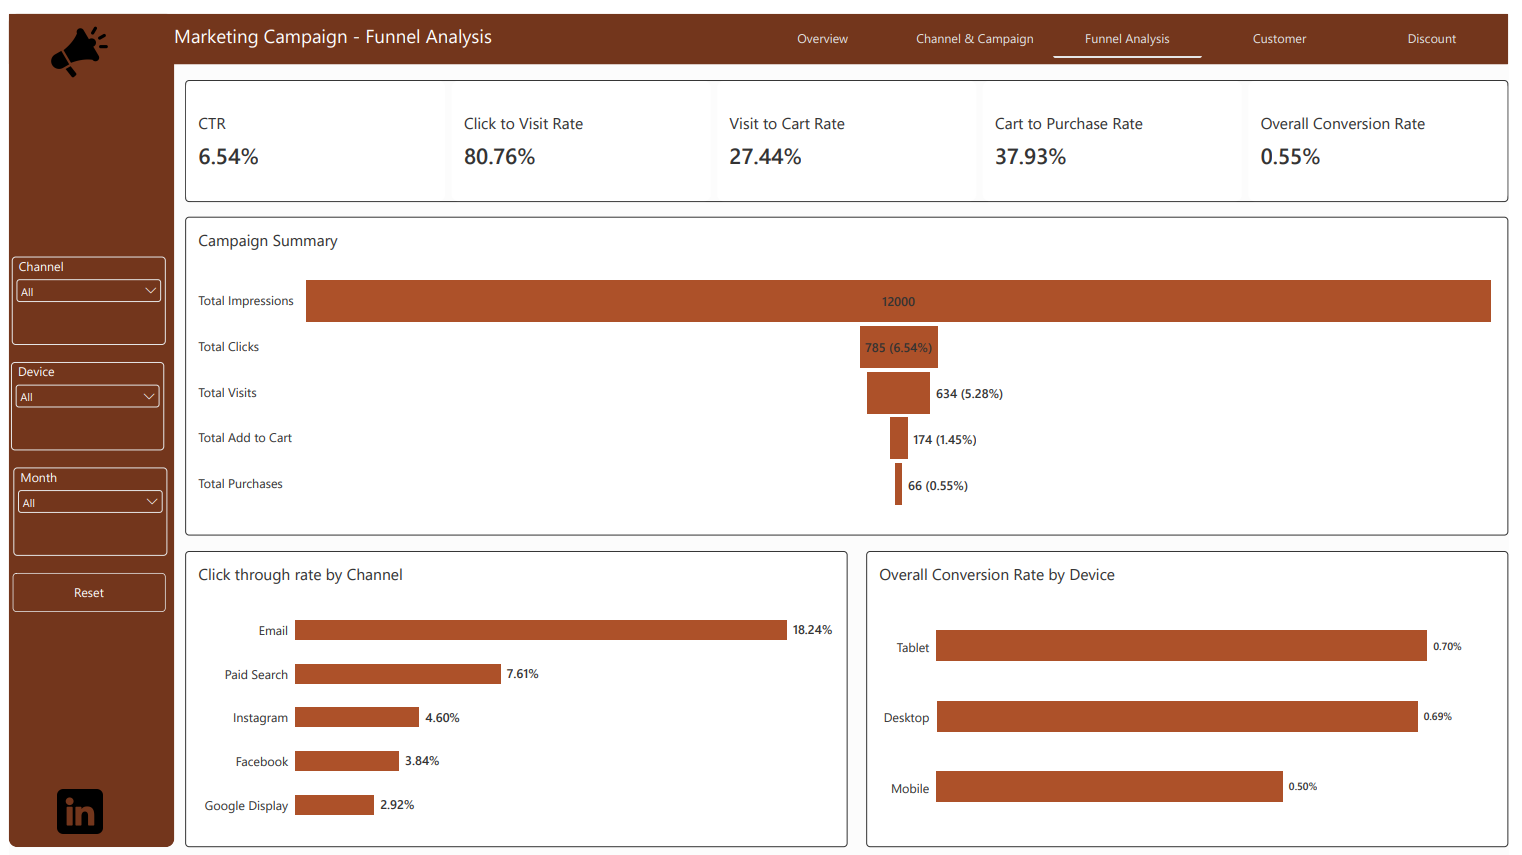

This screenshot's page, from the dashboard's own definition file:
{"tool":"powerbi","page":{"name":"Funnel Analysis","canvas":[1920,1080],"ordinal":2},"visuals":[{"type":"shape","box":[0,0,212.3,1066.8],"z":0},{"type":"shape","box":[0,0,1919.6,65.1],"z":1000},{"type":"textbox","box":[212.3,12,505.2,39.4],"z":2000},{"type":"cardVisual","fields":{"Data":["Measures Page 1.CTR","Measures Page 1.Click to Visit Rate","Measures Page 1.Visit to Cart Rate","Measures Page 1.Cart to Purchase Rate","Measures Page 1.Overall Conversion Rate"]},"box":[226,85,1693.5,155.8],"z":3000},{"type":"funnel","title":"Campaign Summary","fields":{"Y":["Measures Page 1.Total Impressions","Measures Page 1.Total Clicks","Measures Page 1.Total Visits","Measures Page 1.Total Add to Cart","Measures Page 1.Total Purchases"]},"box":[226,260.3,1693.5,407.5],"z":4000},{"type":"barChart","title":"Click through rate by Channel","fields":{"Category":["Campaigns.Channel"],"Y":["Measures Page 1.CTR"]},"box":[226,688.4,847.6,378.4],"z":5000},{"type":"barChart","title":"Overall Conversion Rate by Device","fields":{"Category":["Interactions.Device"],"Y":["Measures Page 1.Overall Conversion Rate"]},"box":[1097.6,688.4,821.9,378.4],"z":6000},{"type":"slicer","fields":{"Values":["Campaigns.Channel"]},"box":[4.3,310.8,196.9,113],"z":7000},{"type":"slicer","fields":{"Values":["Interactions.Device"]},"box":[2.6,445.9,196.9,113],"z":8000},{"type":"image","box":[61.6,993.2,58.2,56.5],"z":9000},{"type":"image","box":[34.2,12,113,73.6],"z":10000},{"type":"slicer","fields":{"Values":["Calendar Date.Month Name"]},"box":[5.7,581,196.9,113],"z":11000},{"type":"pageNavigator","box":[946.9,6.8,972.6,49.7],"z":12000},{"type":"actionButton","box":[5.4,716.1,195.2,49.7],"z":12001}]}

Visuals, with their boxes in screenshot pixels (x1, y1, x2, y2), scaled from the page's 1920x1080 canvas onto the 1522x855 screenshot:
shape: Rect(0, 0, 168, 845)
shape: Rect(0, 0, 1521, 52)
textbox: Rect(168, 10, 569, 41)
cardVisual - Measures Page 1.CTR x Measures Page 1.Click to Visit Rate: Rect(179, 67, 1521, 191)
"Campaign Summary" funnel: Rect(179, 206, 1521, 529)
"Click through rate by Channel" barChart: Rect(179, 545, 851, 845)
"Overall Conversion Rate by Device" barChart: Rect(870, 545, 1521, 845)
slicer - Campaigns.Channel: Rect(3, 246, 159, 336)
slicer - Interactions.Device: Rect(2, 353, 158, 442)
image: Rect(49, 786, 95, 831)
image: Rect(27, 10, 117, 68)
slicer - Calendar Date.Month Name: Rect(5, 460, 161, 549)
pageNavigator: Rect(751, 5, 1521, 45)
actionButton: Rect(4, 567, 159, 606)
